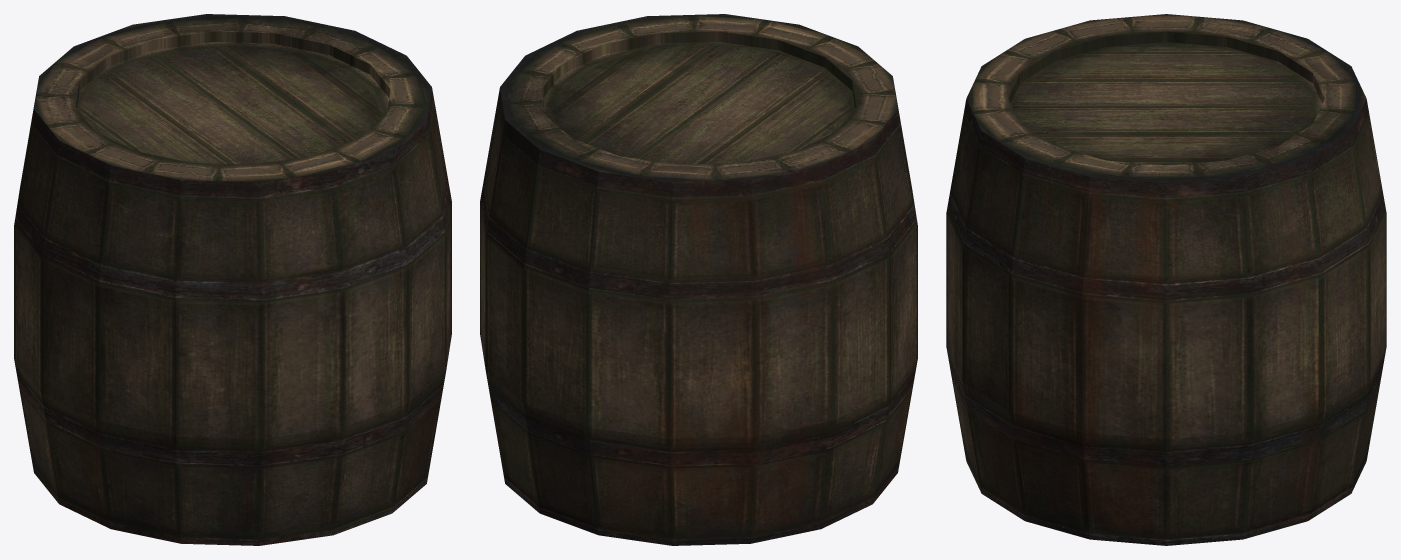
Rendered from Barril.fbx.
The picture shows the model from 3 angles, left to right: view 1: azimuth 30°, elevation 25°; view 2: azimuth 150°, elevation 25°; view 3: azimuth 270°, elevation 25°; orthographic projection.
Parts seen in each view (by area): view 1: Barril; view 2: Barril; view 3: Barril.
Part boxes in pixels (x1,y1,x2,y2): Barril: [14, 14, 451, 545]; Barril: [480, 14, 917, 545]; Barril: [946, 14, 1386, 545].
Size of the model in its own units: 220 by 200 by 220.
Materials: 1 (1 with a texture image).
